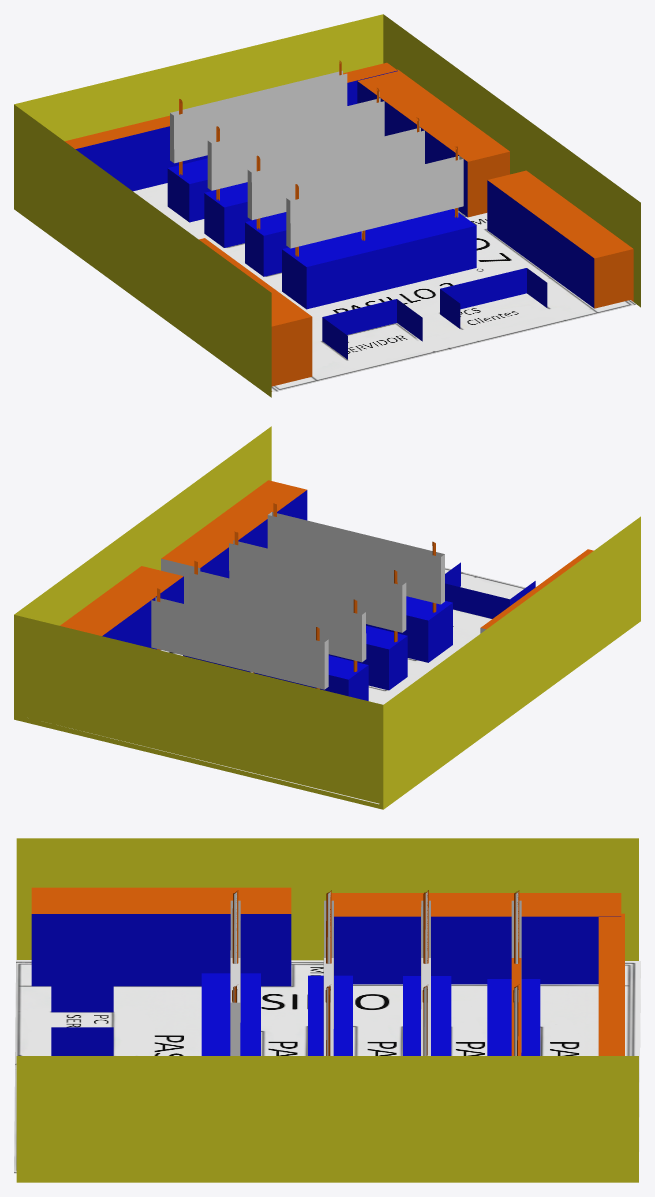
Rendered from modelos.glb.
3 renders of one model, top to bottom at view 1: azimuth 30°, elevation 25°; view 2: azimuth 150°, elevation 25°; view 3: azimuth 270°, elevation 25°, orthographic. The views are drawn at different scales.
Visible parts, largest first — view 1: Cube, Plane; view 2: Cube, Plane; view 3: Cube, Plane.
Boxes of the visible parts, x1,y1,x2,y2 form: Cube: (14,14,640,397); Plane: (133,183,636,392); Cube: (14,426,640,809); Plane: (69,567,525,804); Cube: (16,838,638,1182); Plane: (14,960,640,1173).
Bounding box in the file's own units: 63.76 × 21.94 × 77.58.
5 materials, 1 textured.
